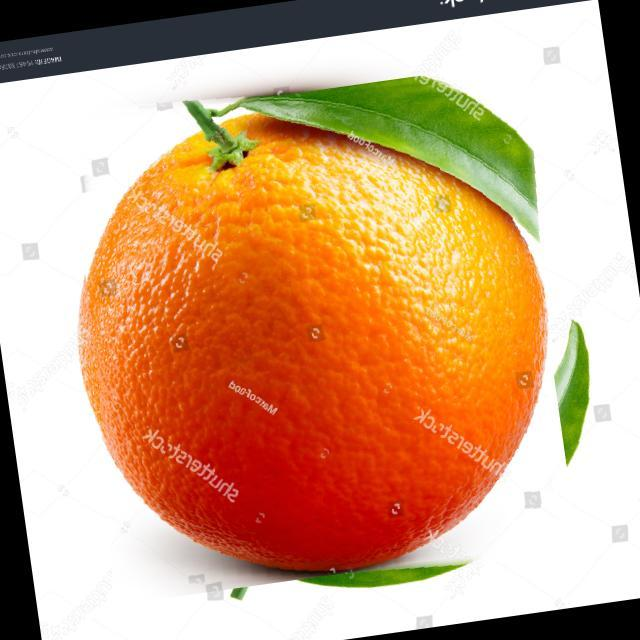Orange: (76, 107, 548, 574)
